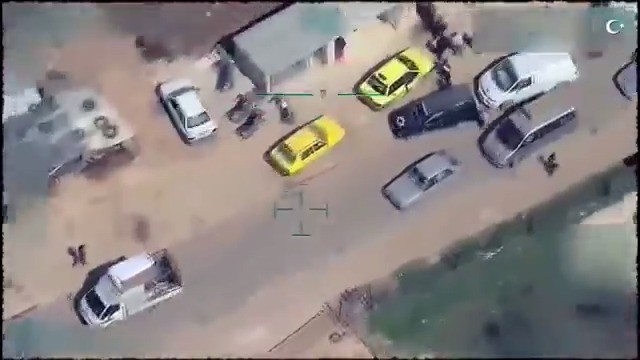arac: (66, 243, 218, 334), (457, 85, 594, 169), (473, 34, 598, 110), (375, 141, 470, 217), (261, 107, 349, 181), (353, 41, 438, 113), (153, 69, 212, 153), (234, 104, 267, 148), (211, 54, 241, 96)
insan: (541, 148, 567, 178), (74, 234, 90, 267)
